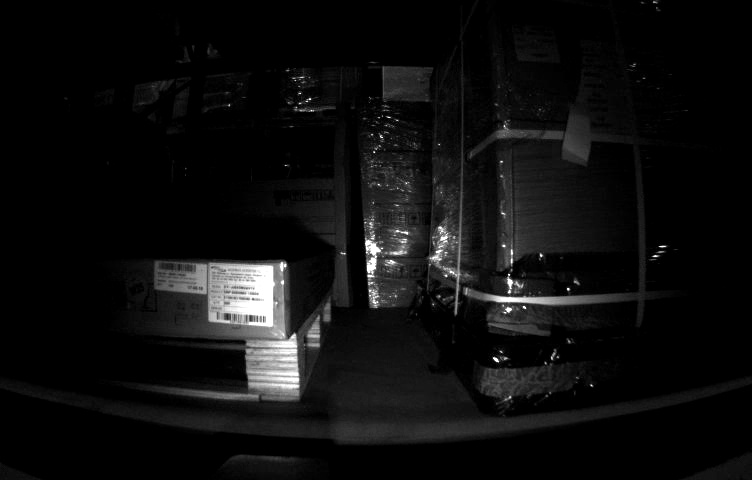True Barcode: (512, 22, 562, 57)
